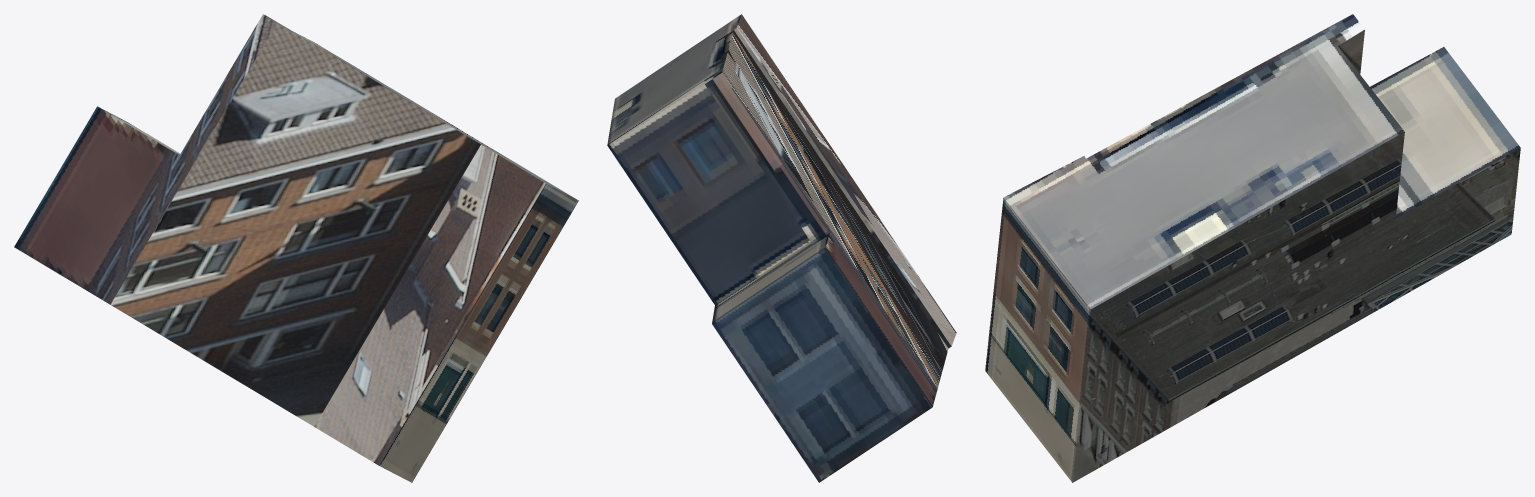
3 renders of one model, left to right at view 1: azimuth 30°, elevation 25°; view 2: azimuth 150°, elevation 25°; view 3: azimuth 270°, elevation 25°, orthographic. The views are drawn at different scales.
Visible parts, largest first — view 1: BAG_0599100000760339 (×3); view 2: BAG_0599100000760339 (×3); view 3: BAG_0599100000760339 (×4).
Part boxes in pixels (left/top/right/bottom): BAG_0599100000760339 (×3): left=14, top=14, right=578, bottom=482; BAG_0599100000760339 (×3): left=607, top=14, right=956, bottom=482; BAG_0599100000760339 (×4): left=985, top=14, right=1520, bottom=482.
Size of the model in its own units: 20.81 by 18.48 by 19.83.
1 material, 1 textured.
